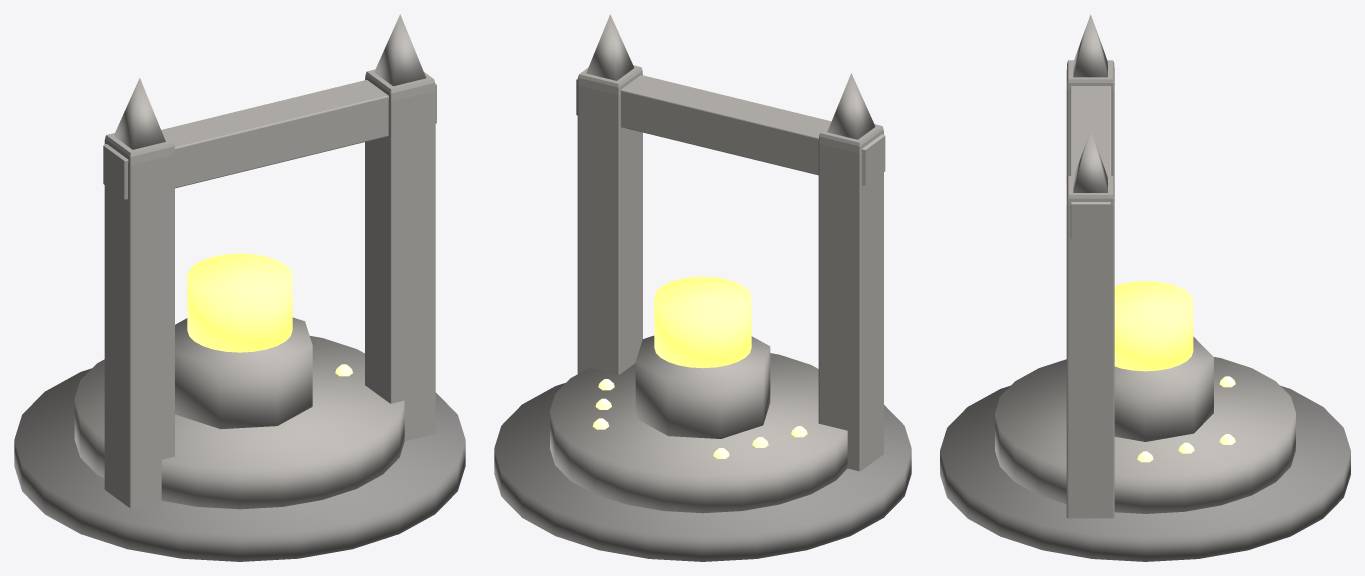
Rendered from world_shrine.glb.
3 renders of one model, left to right at view 1: azimuth 30°, elevation 25°; view 2: azimuth 150°, elevation 25°; view 3: azimuth 270°, elevation 25°, orthographic. The views are drawn at different scales.
Visible parts, largest first — view 1: world_shrine; view 2: world_shrine; view 3: world_shrine.
Part boxes in pixels (left/top/right/bottom): world_shrine: left=14, top=14, right=465, bottom=561; world_shrine: left=494, top=14, right=911, bottom=561; world_shrine: left=940, top=14, right=1350, bottom=561.
Bounding box in the file's own units: 3 × 3.25 × 3.
